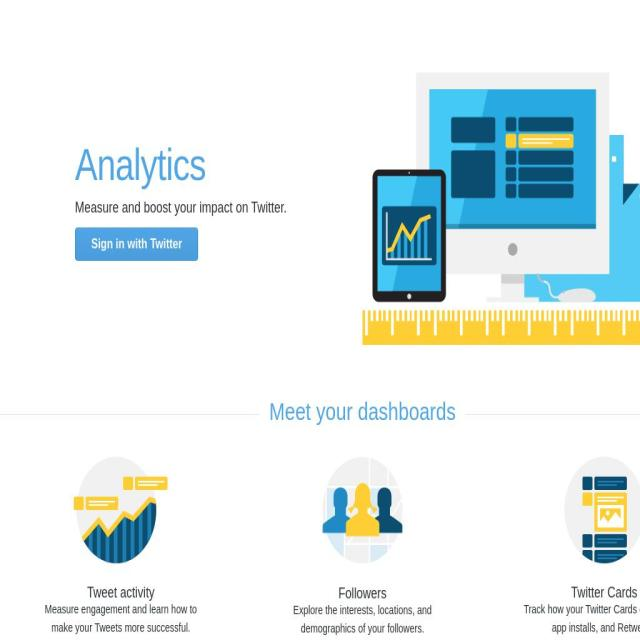button: (75, 227, 199, 261)
heading: (75, 134, 363, 194)
image: (362, 72, 640, 346), (74, 457, 168, 563), (322, 457, 402, 564), (564, 457, 640, 563)
text: (39, 600, 202, 637), (281, 601, 444, 637), (75, 198, 363, 218), (522, 600, 640, 637), (259, 404, 466, 419), (39, 585, 202, 600), (281, 586, 444, 601), (522, 585, 640, 600)
